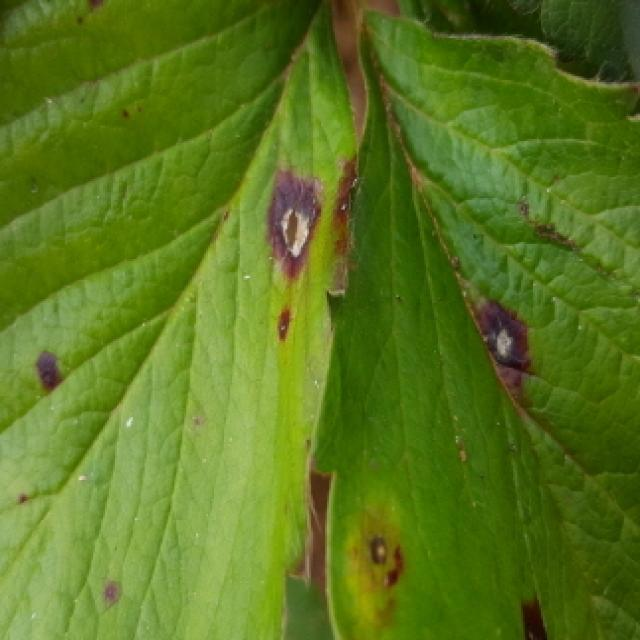Leaf Spot: (309, 5, 640, 640)
